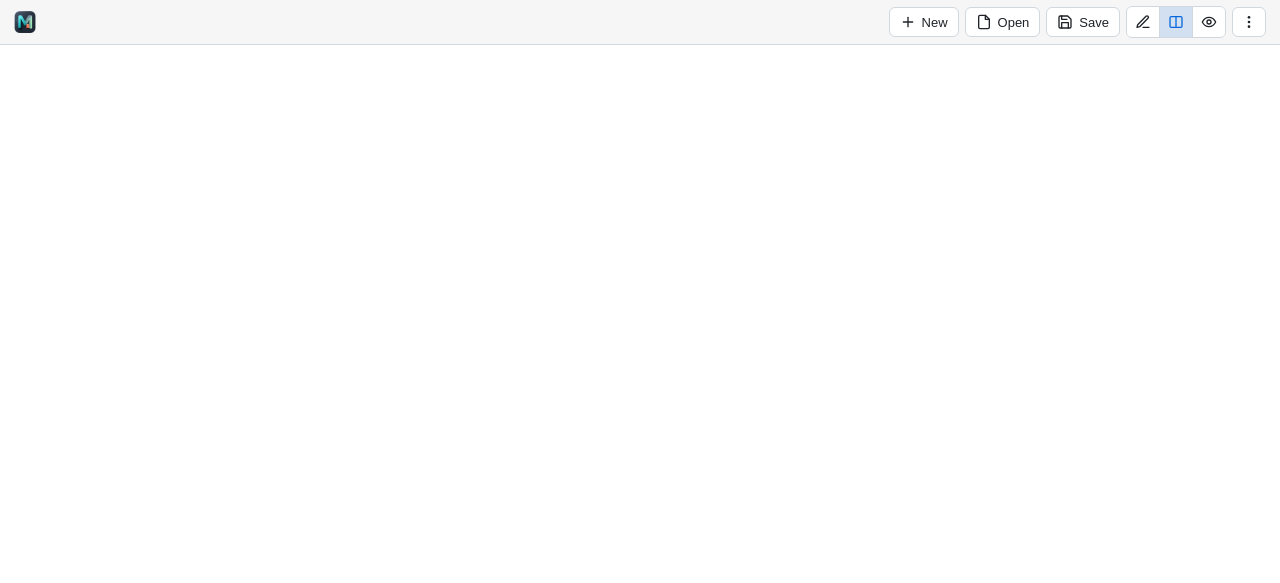
Test: the recent documents in the menu › marks the empty row unavailable without taking it out of the arrow walk
Click the button named "More options".
click(1249, 22)  # box 1232,7 -> 1266,37
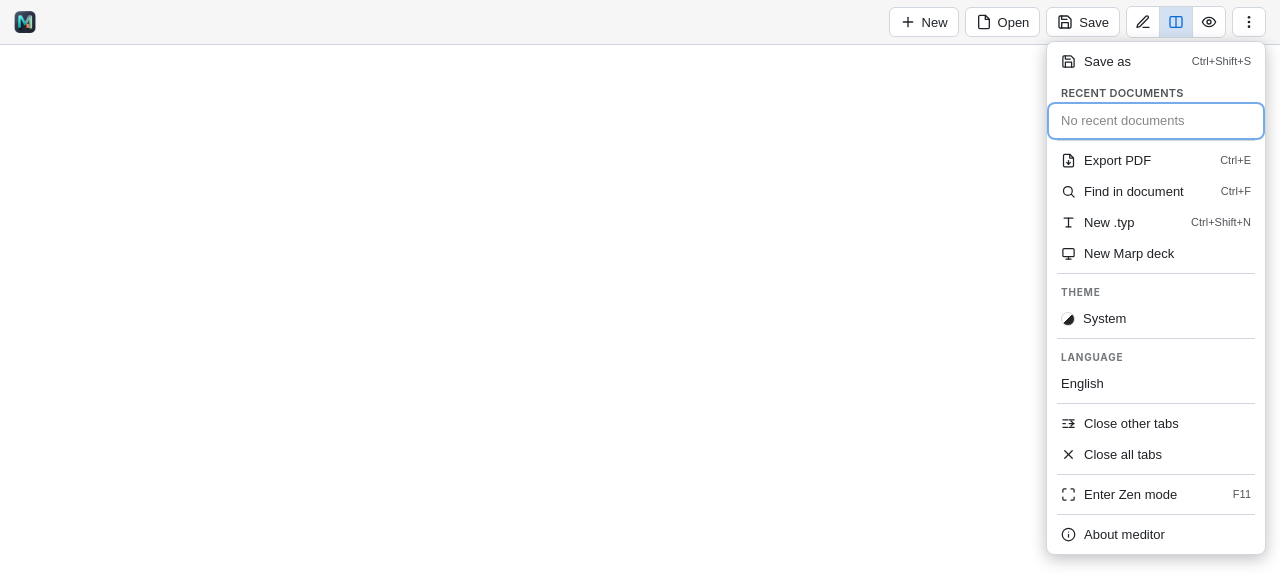
Result: the menu item "No recent documents" is enabled at 1051,106 -> 1261,136
